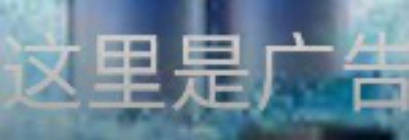TextView: (1, 1, 408, 139)
